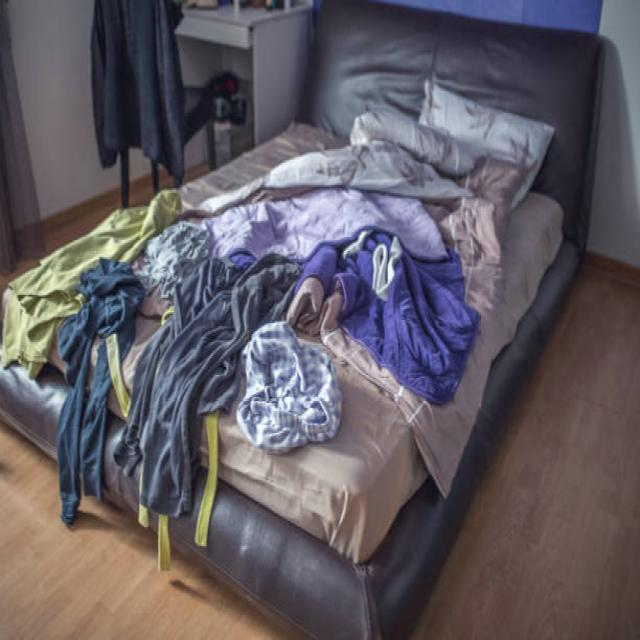bed: (0, 72, 585, 579)
